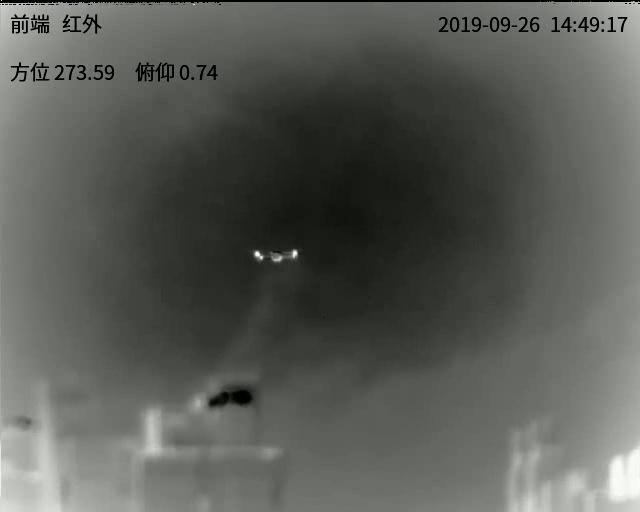DRONE: (251, 248, 299, 264)
